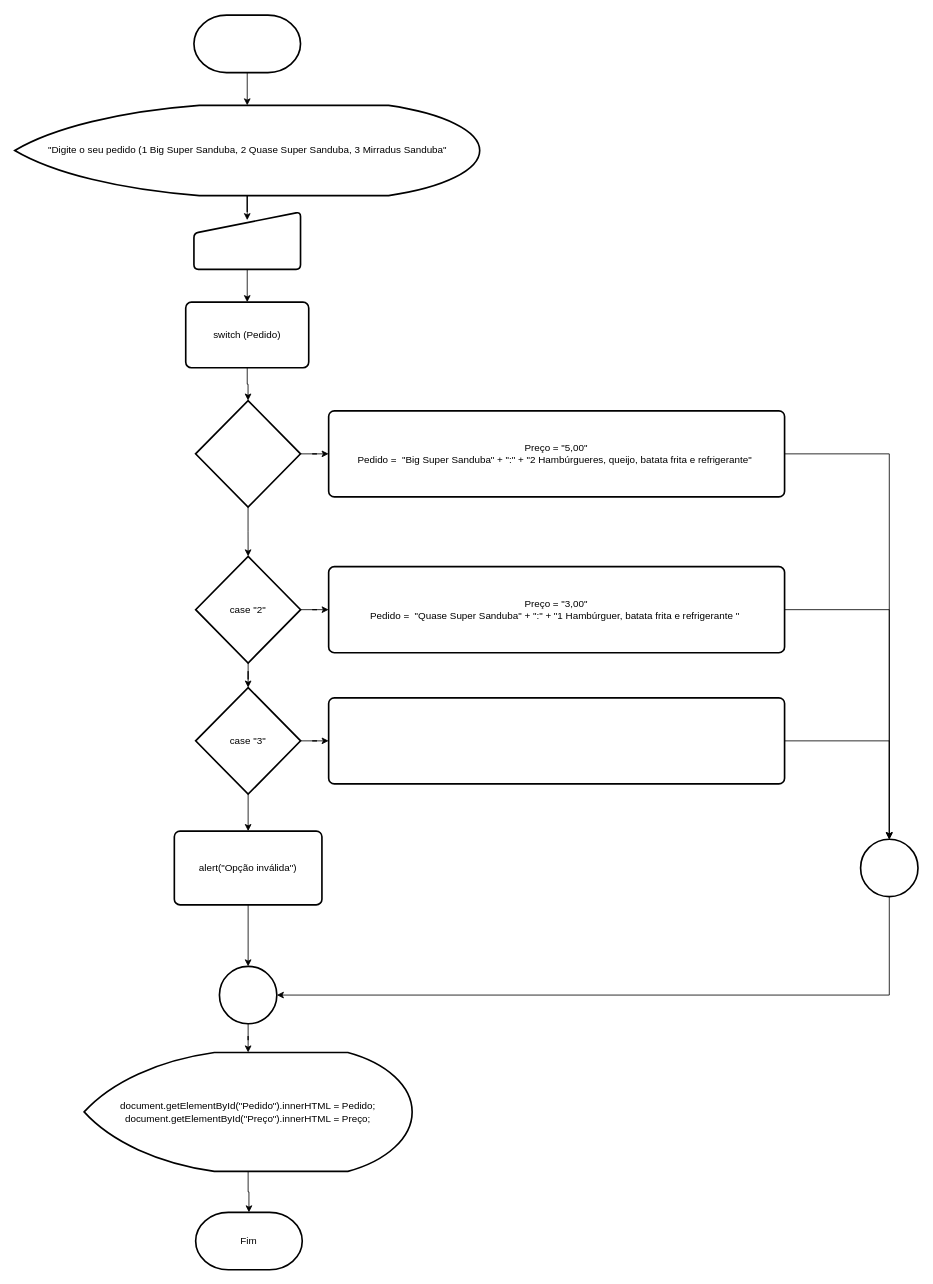
Some shapes in this 933 by 1284 pixel diagram are drawn without their labels. Each missing label, with the centre of its shape:
case "1": (247,453)
Inicio: (247,43)
Pedido: (247,240)
Preço = "1,50" Pedido = "Mirradus Sanduba" + ":" +"Misto quente e refrigerante": (556,740)
